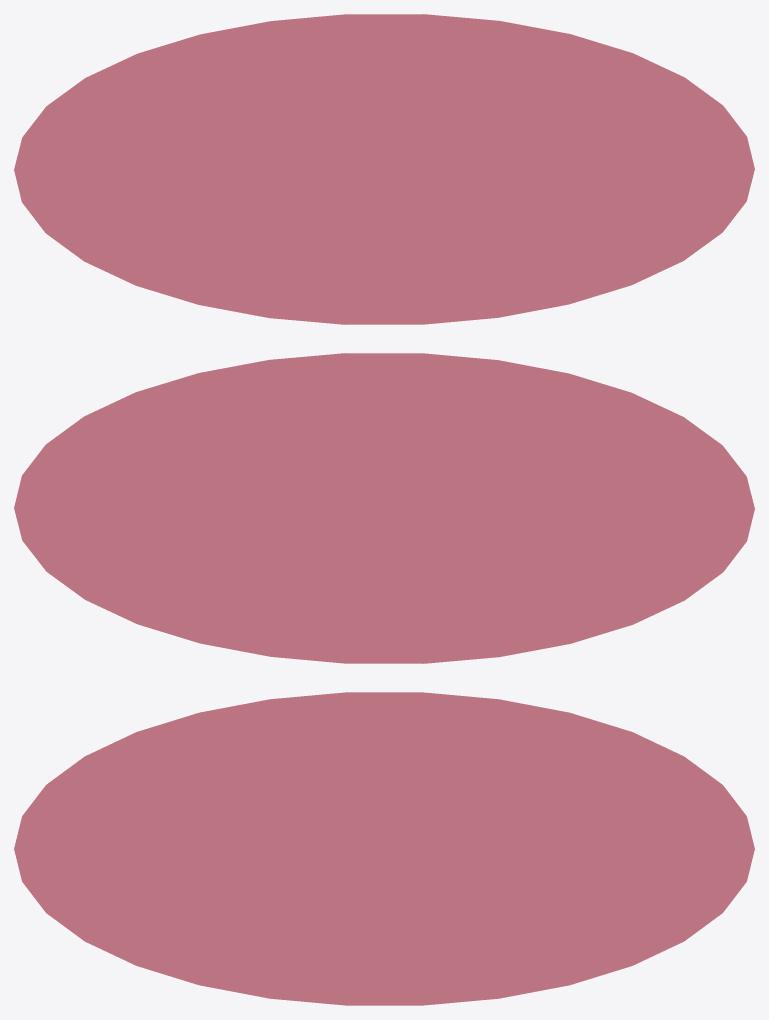
File: circle_floor.fbx
The picture shows the model from 3 angles, top to bottom: view 1: azimuth 30°, elevation 25°; view 2: azimuth 150°, elevation 25°; view 3: azimuth 270°, elevation 25°; orthographic projection.
Parts seen in each view (by area): view 1: Circle; view 2: Circle; view 3: Circle.
Boxes of the visible parts, x1,y1,x2,y2 form: Circle: (14,14,754,324); Circle: (14,353,754,663); Circle: (14,692,754,1005).
Bounding box in the file's own units: 355 × 5.78e-05 × 355.
